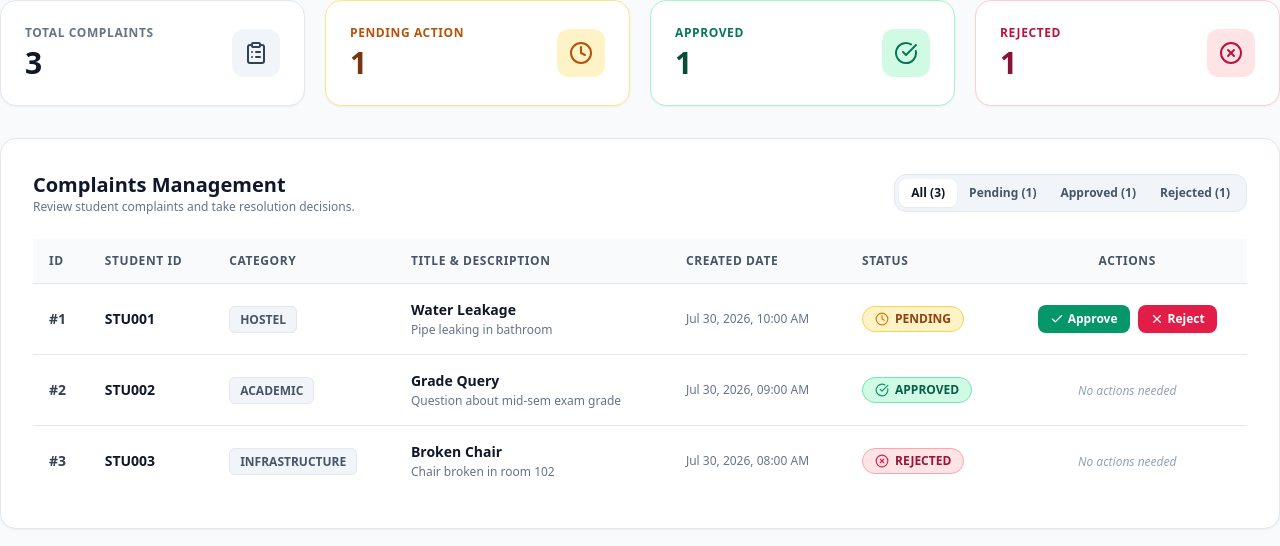
Test: AdminDashboard Component Suite › filters table rows by status tabs (Pending, Approved, Rejected)
This screenshot has width=1280, height=546.
Expected: the row with test id "admin-row-1" is shown, x1=33 y1=284 x2=1247 y2=354
Expected: the row with test id "admin-row-2" is shown, x1=33 y1=354 x2=1247 y2=426
# Filter to Pending
Click the button "Pending (1)" at (1003, 193), box x1=957 y1=179 x2=1048 y2=207
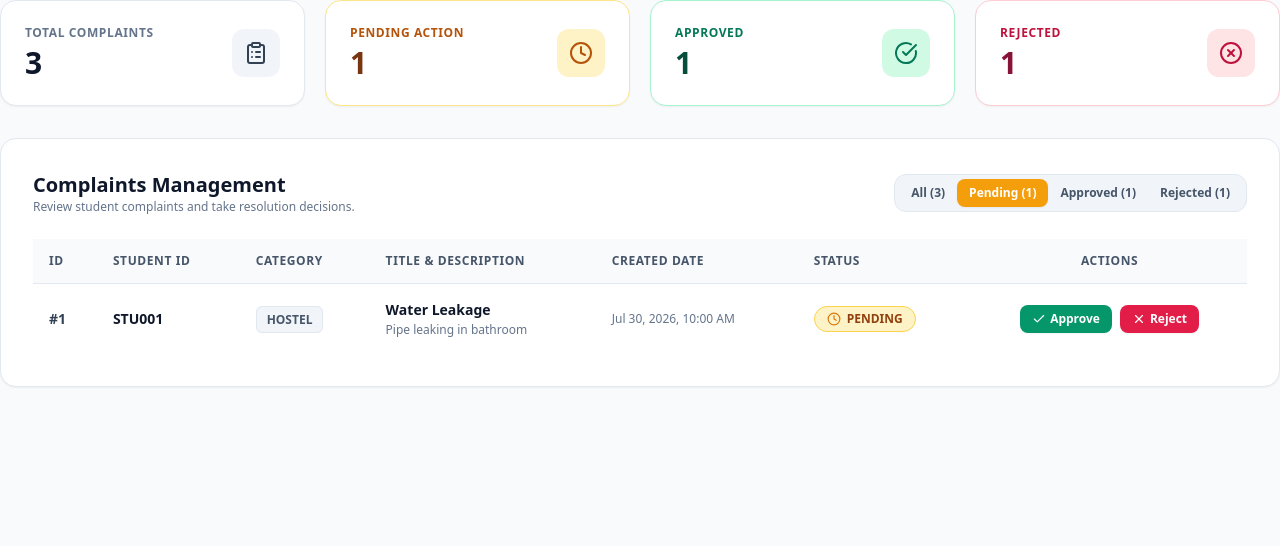
Expected: the row with test id "admin-row-1" is shown, x1=33 y1=284 x2=1247 y2=354
Result: the row with test id "admin-row-2" is gone
Result: the row with test id "admin-row-3" is gone
# Filter to Approved
Click the button "Approved (1)" at (1098, 193), box x1=1048 y1=179 x2=1148 y2=207
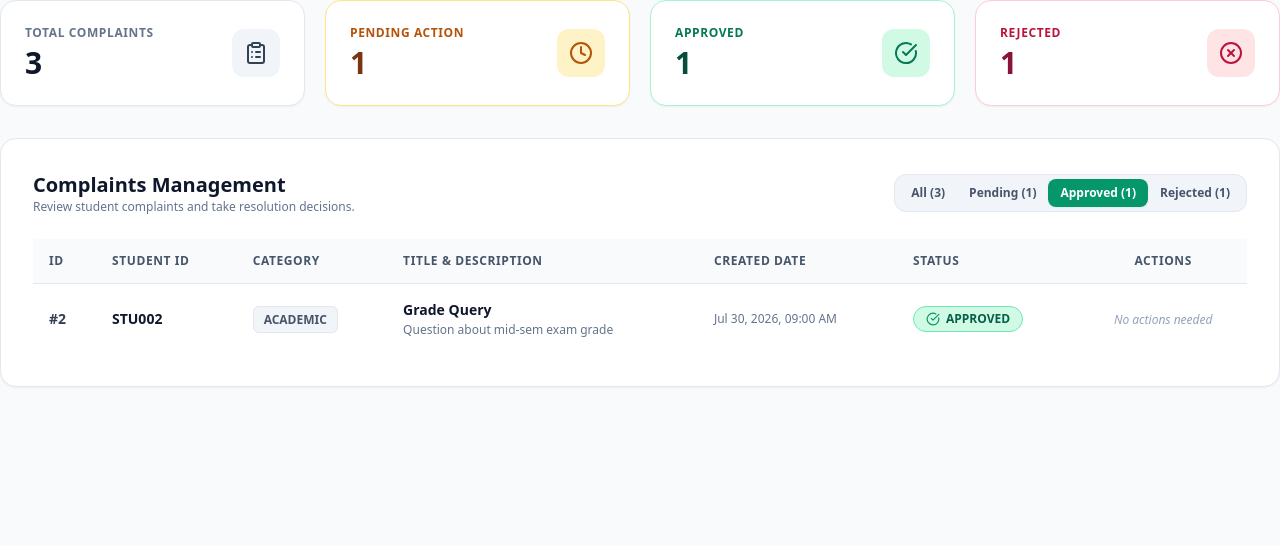
Result: the row with test id "admin-row-1" is gone
Result: the row with test id "admin-row-2" is shown at x1=33 y1=284 x2=1247 y2=354
